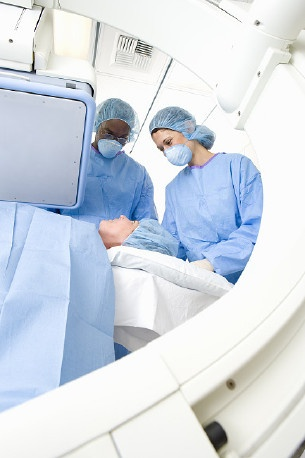Mask: (90, 119, 132, 161)
